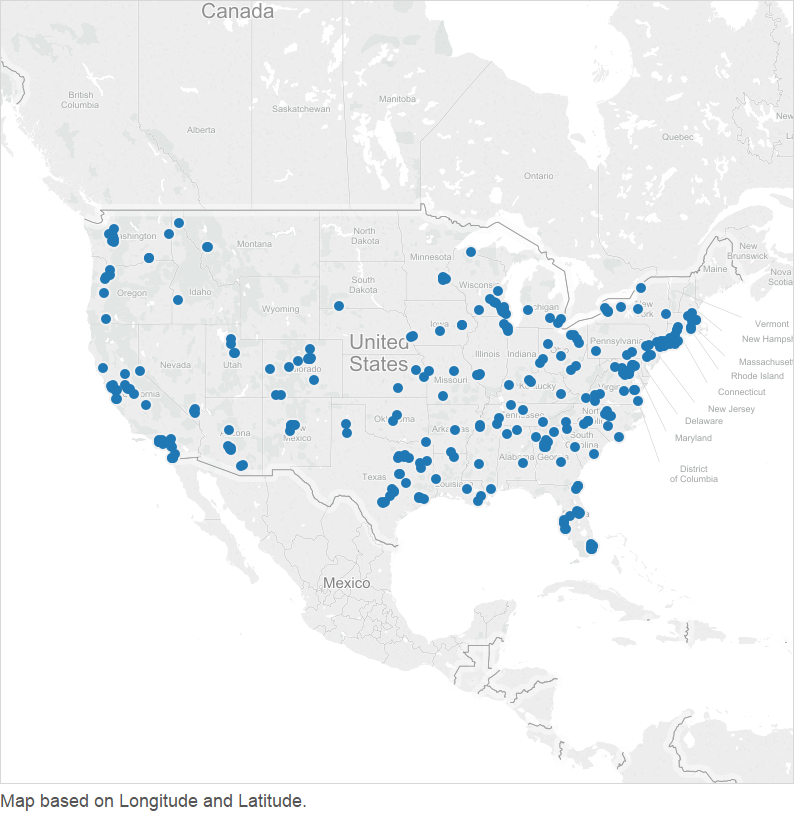

This screenshot's page, from the dashboard's own definition file:
{"tool":"tableau","page":{"name":"Dashboard 1","canvas":[1000,800],"ordinal":0},"visuals":[{"type":"worksheet","title":"Sheet 3","mark":"Multipolygon","box":[0,0,500,800]},{"type":"worksheet","title":"Sheet 5","mark":"Circle","rows":["LATITUDE"],"cols":["LONGITUDE"],"box":[500,0,500,800]}]}

Visuals, with their boxes on the page's 1000x800 design canvas (x1, y1, x2, y2). These are canvas units, not pixel positions in the 794x813 screenshot, which may show the page scaled, cropped or inside an application window:
"Sheet 3" worksheet (Multipolygon marks): [left=0, top=0, right=500, bottom=800]
"Sheet 5" worksheet (Circle marks): [left=500, top=0, right=1000, bottom=800]
